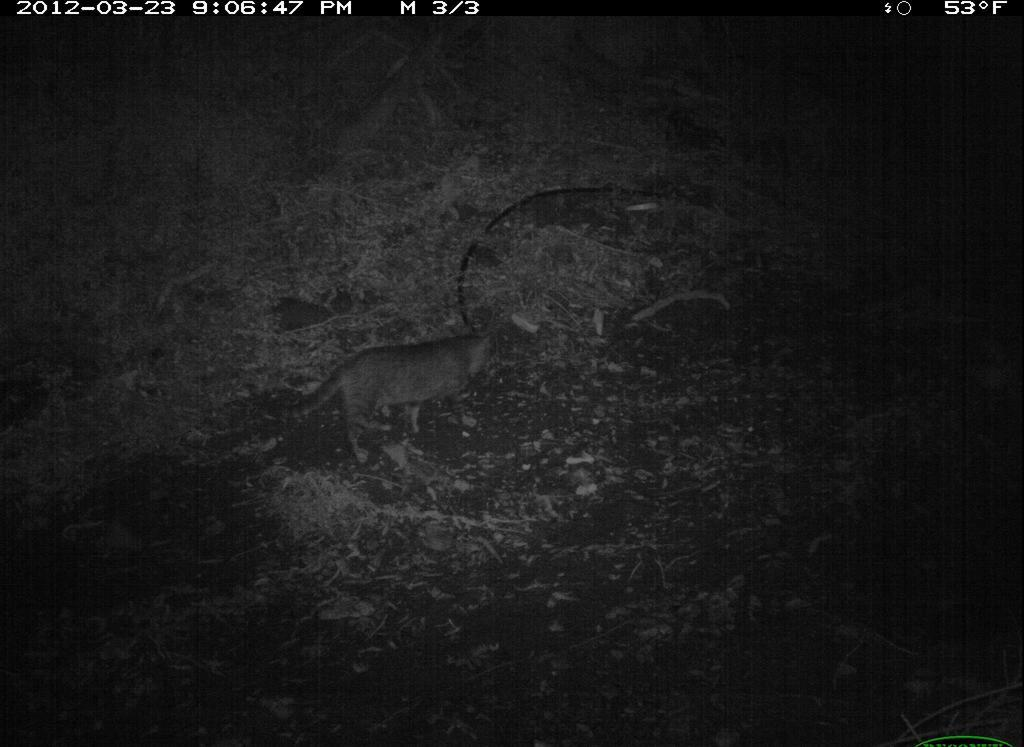cat: (262, 326, 501, 472)
